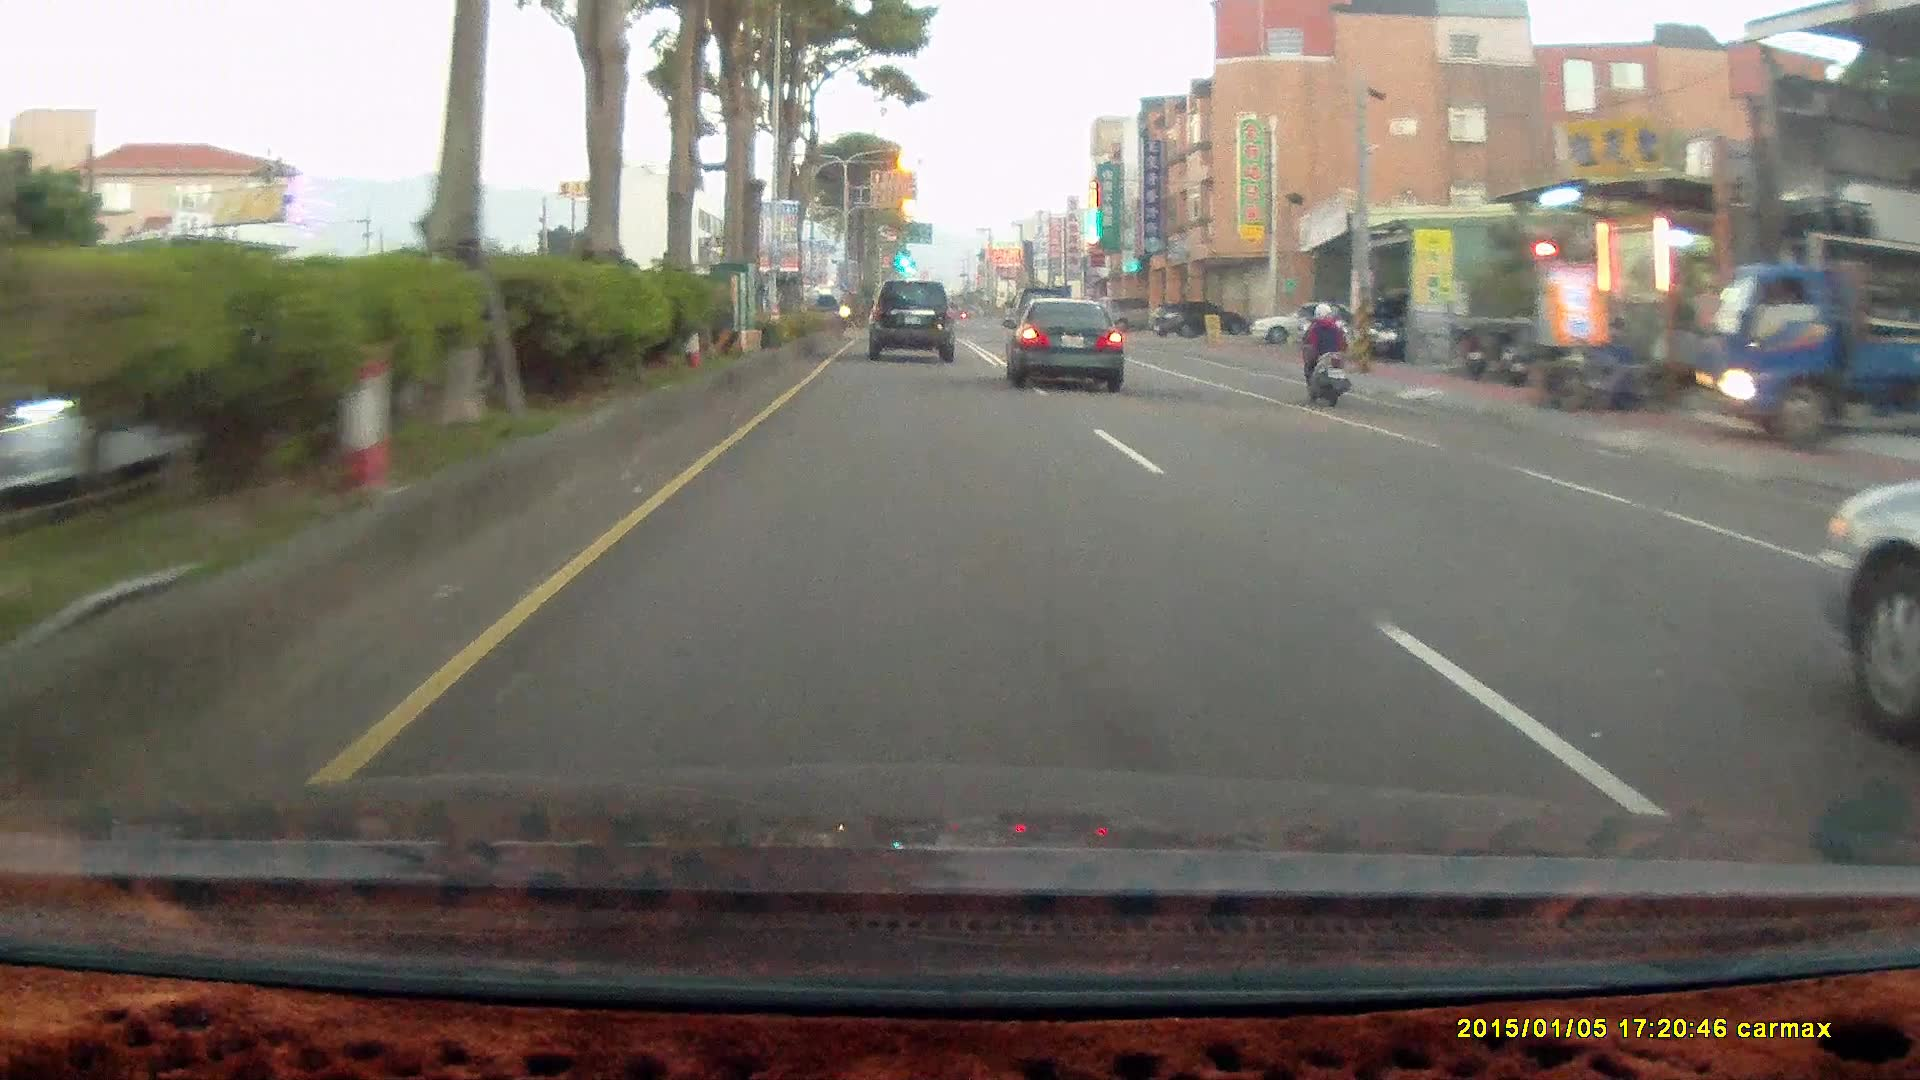rider: (1289, 292, 1362, 415), (1291, 300, 1350, 405)
vehicle: (1699, 259, 1920, 440), (1699, 258, 1920, 439), (1807, 466, 1920, 770), (1807, 466, 1919, 753), (1009, 295, 1131, 392), (1003, 293, 1126, 386), (1364, 298, 1485, 361), (872, 277, 958, 364), (867, 278, 952, 361), (1250, 298, 1370, 344), (1154, 299, 1244, 344), (1153, 298, 1243, 337), (1099, 293, 1170, 329)
